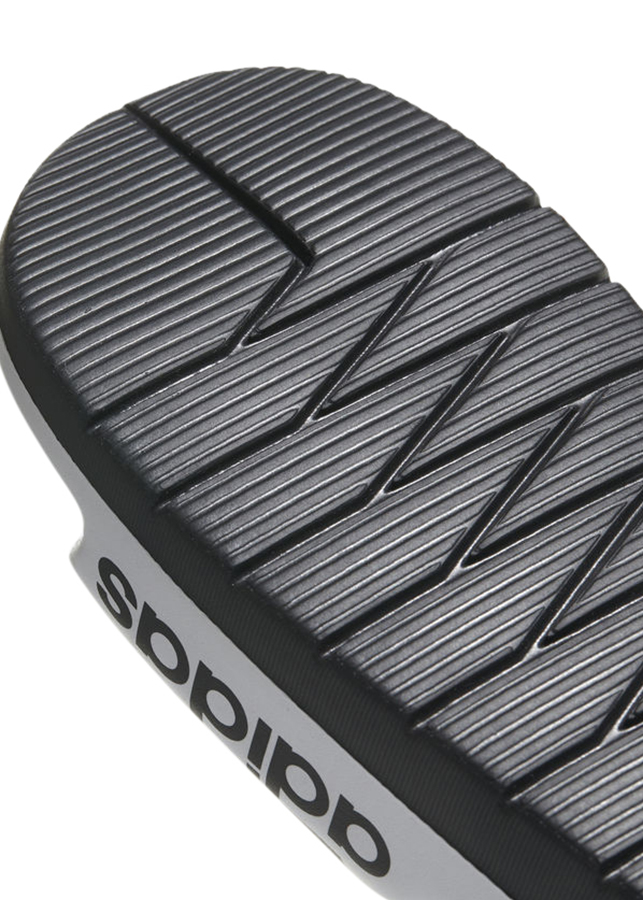Adidas: (87, 552, 395, 882)
